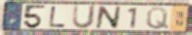1: (126, 6, 140, 29)
5: (22, 4, 48, 29)
L: (48, 5, 68, 28)
N: (94, 5, 123, 30)
Q: (145, 6, 170, 30)
U: (71, 4, 98, 30)
